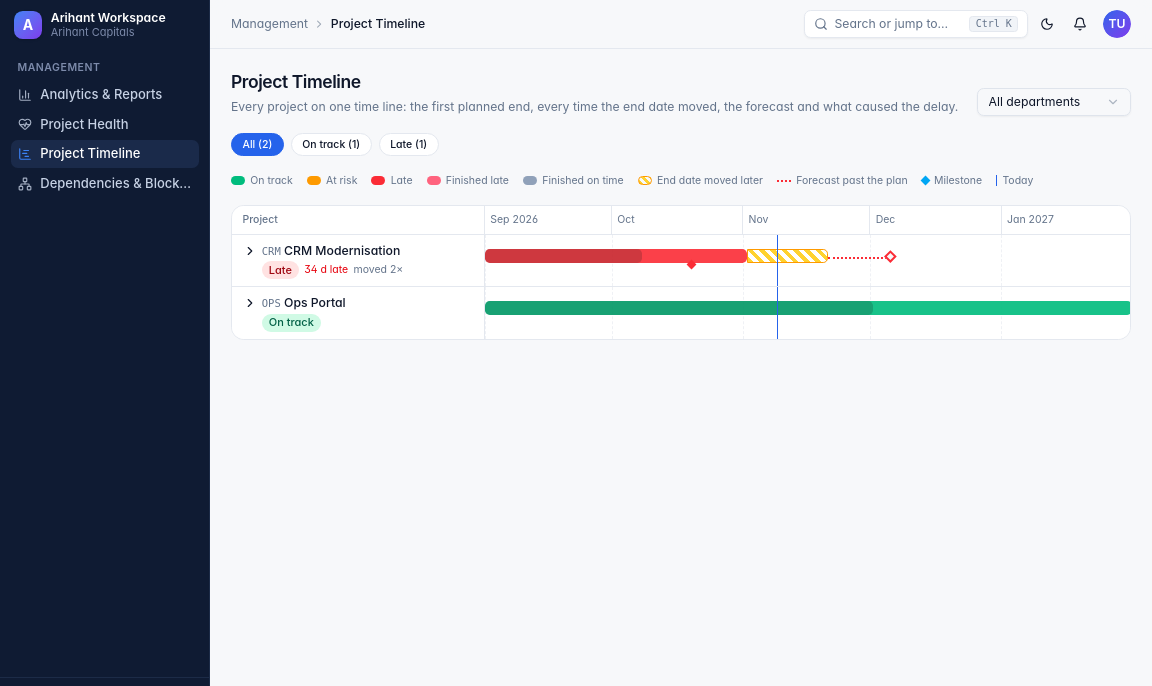
it: Project Timeline › lists projects with their state, filters by state and explains a delay
Expected: the heading "Project Timeline" is shown, [231,71,361,92]
Expected: the button "CRM CRM Modernisation Late 34 d late moved 2×" is shown, [232,235,484,286]
// Filter to late projects only.
Click the button "Late (1)". click: (409, 144)
box: [379,133,439,156]
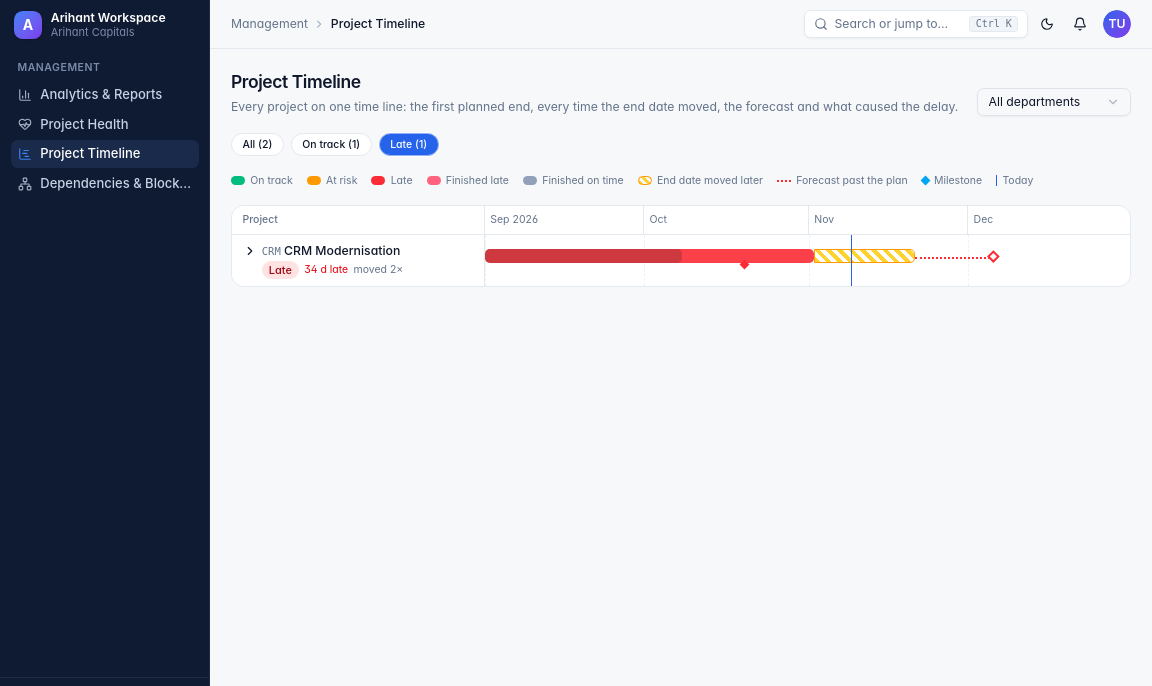
Expected: the button "OPS Ops Portal" is gone
// Expanding a row loads the delay breakdown.
Click the button "CRM CRM Modernisation Late 34 d late moved 2×". click: (358, 261)
box: [232,235,484,286]
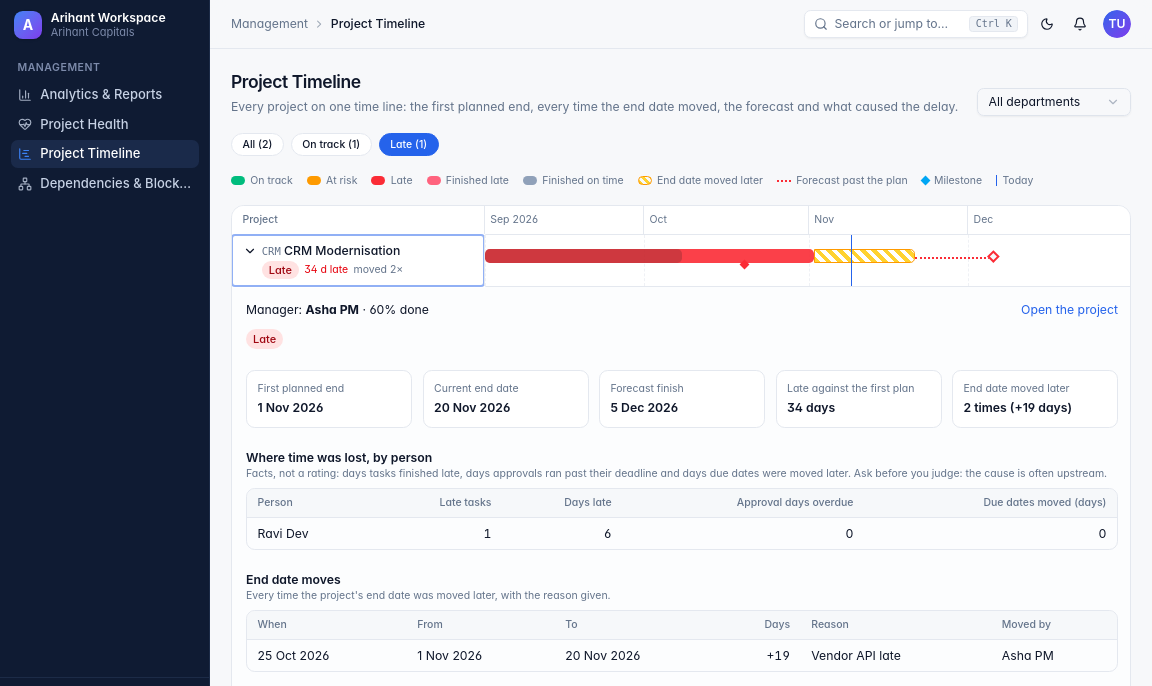
Expected: the element "End date moves" shows "Vendor API late", [811,648,901,663]
Expected: the element "End date moves" shows "Asha PM", [1002,648,1054,663]
Expected: the element "Where time was lost, by person" shows "Ravi Dev", [258,526,309,541]
